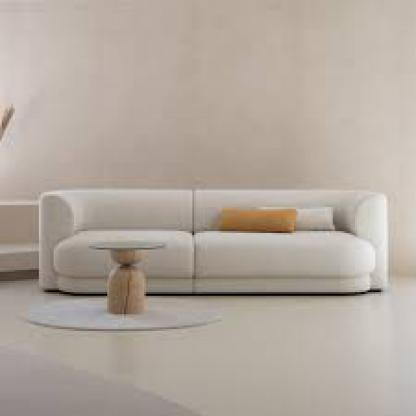sofa: (33, 183, 401, 292)
